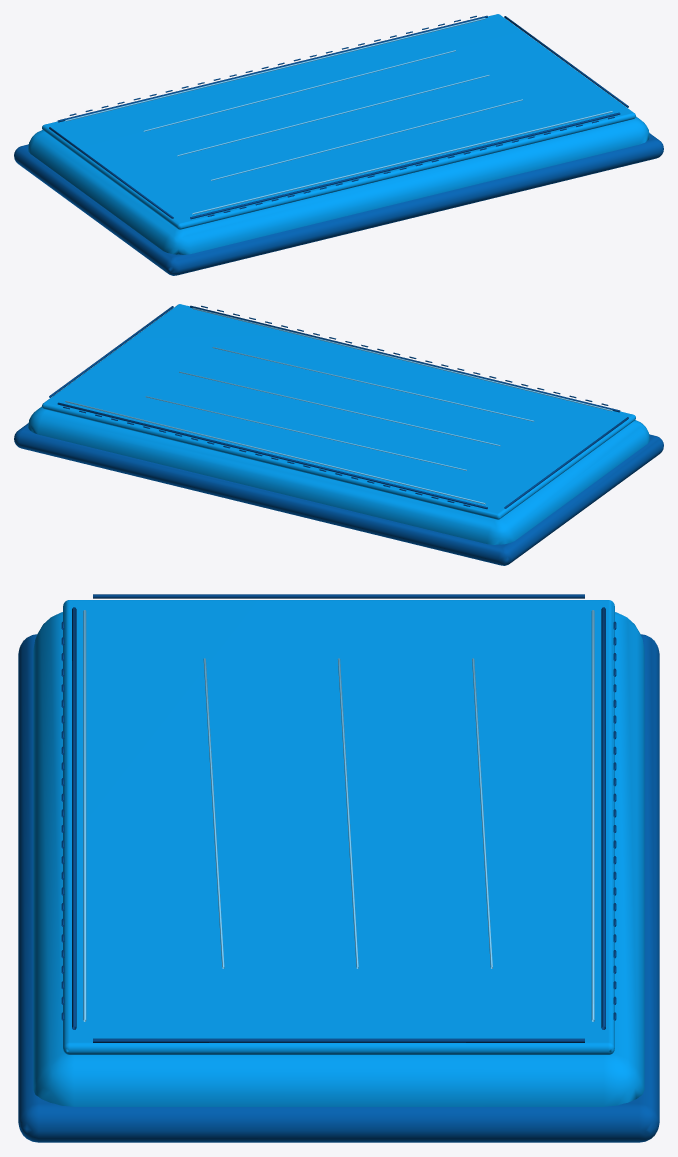
File: kleine_Turnmatte_3D.glb
The picture shows the model from 3 angles, top to bottom: view 1: azimuth 30°, elevation 25°; view 2: azimuth 150°, elevation 25°; view 3: azimuth 270°, elevation 25°; orthographic projection. The views are drawn at different scales.
Parts seen in each view (by area): view 1: kleine_Turnmatte_3D__web_rich_blue_vinyl_small_gym_mat, kleine_Turnmatte_3D__web_darker_blue_mat_side_panels_and_sea, kleine_Turnmatte_3D__web_dark_stitched_small_mat_thread, kleine_Turnmatte_3D__web_soft_cyan_mat_edge_highlights; view 2: kleine_Turnmatte_3D__web_rich_blue_vinyl_small_gym_mat, kleine_Turnmatte_3D__web_darker_blue_mat_side_panels_and_sea, kleine_Turnmatte_3D__web_dark_stitched_small_mat_thread, kleine_Turnmatte_3D__web_soft_cyan_mat_edge_highlights; view 3: kleine_Turnmatte_3D__web_rich_blue_vinyl_small_gym_mat, kleine_Turnmatte_3D__web_darker_blue_mat_side_panels_and_sea, kleine_Turnmatte_3D__web_dark_stitched_small_mat_thread, kleine_Turnmatte_3D__web_soft_cyan_mat_edge_highlights.
Boxes of the visible parts, bbox=[...] form: kleine_Turnmatte_3D__web_rich_blue_vinyl_small_gym_mat: bbox=[28, 14, 649, 254]; kleine_Turnmatte_3D__web_darker_blue_mat_side_panels_and_sea: bbox=[14, 133, 663, 275]; kleine_Turnmatte_3D__web_dark_stitched_small_mat_thread: bbox=[49, 15, 628, 219]; kleine_Turnmatte_3D__web_soft_cyan_mat_edge_highlights: bbox=[65, 18, 612, 214]; kleine_Turnmatte_3D__web_rich_blue_vinyl_small_gym_mat: bbox=[28, 304, 649, 544]; kleine_Turnmatte_3D__web_darker_blue_mat_side_panels_and_sea: bbox=[14, 423, 663, 565]; kleine_Turnmatte_3D__web_dark_stitched_small_mat_thread: bbox=[49, 305, 628, 509]; kleine_Turnmatte_3D__web_soft_cyan_mat_edge_highlights: bbox=[65, 308, 612, 504]; kleine_Turnmatte_3D__web_rich_blue_vinyl_small_gym_mat: bbox=[33, 600, 644, 1106]; kleine_Turnmatte_3D__web_darker_blue_mat_side_panels_and_sea: bbox=[18, 634, 659, 1142]; kleine_Turnmatte_3D__web_dark_stitched_small_mat_thread: bbox=[61, 594, 616, 1042]; kleine_Turnmatte_3D__web_soft_cyan_mat_edge_highlights: bbox=[83, 610, 594, 1021].
Size of the model in its own units: 1.54 by 0.1367 by 0.86.
